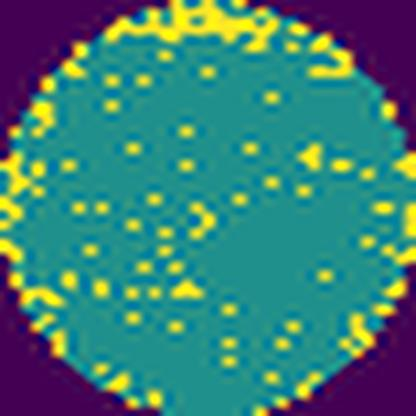Edge-Loc: (103, 0, 279, 62), (299, 31, 351, 78)
